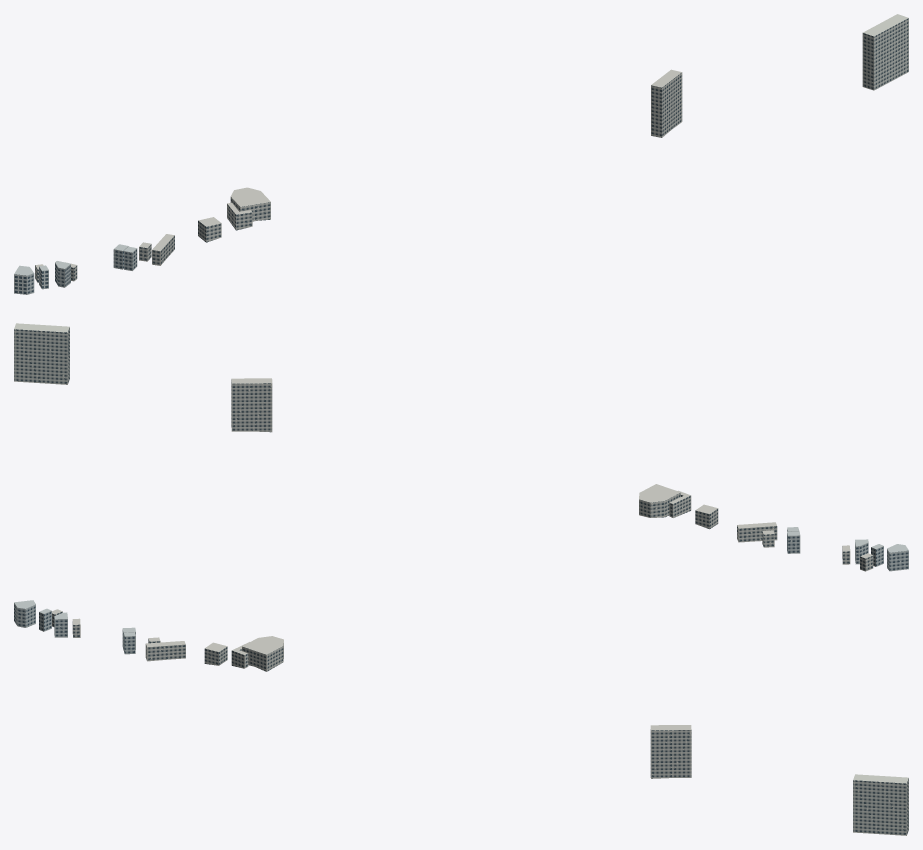
The model's file is city_-1_-6.glb.
3 renders of one model, top to bottom at view 1: azimuth 30°, elevation 25°; view 2: azimuth 150°, elevation 25°; view 3: azimuth 330°, elevation 25°, orthographic. The views are drawn at different scales.
Size of the model in its own units: 826 by 47.07 by 44.78.
3 materials, 3 textured.
